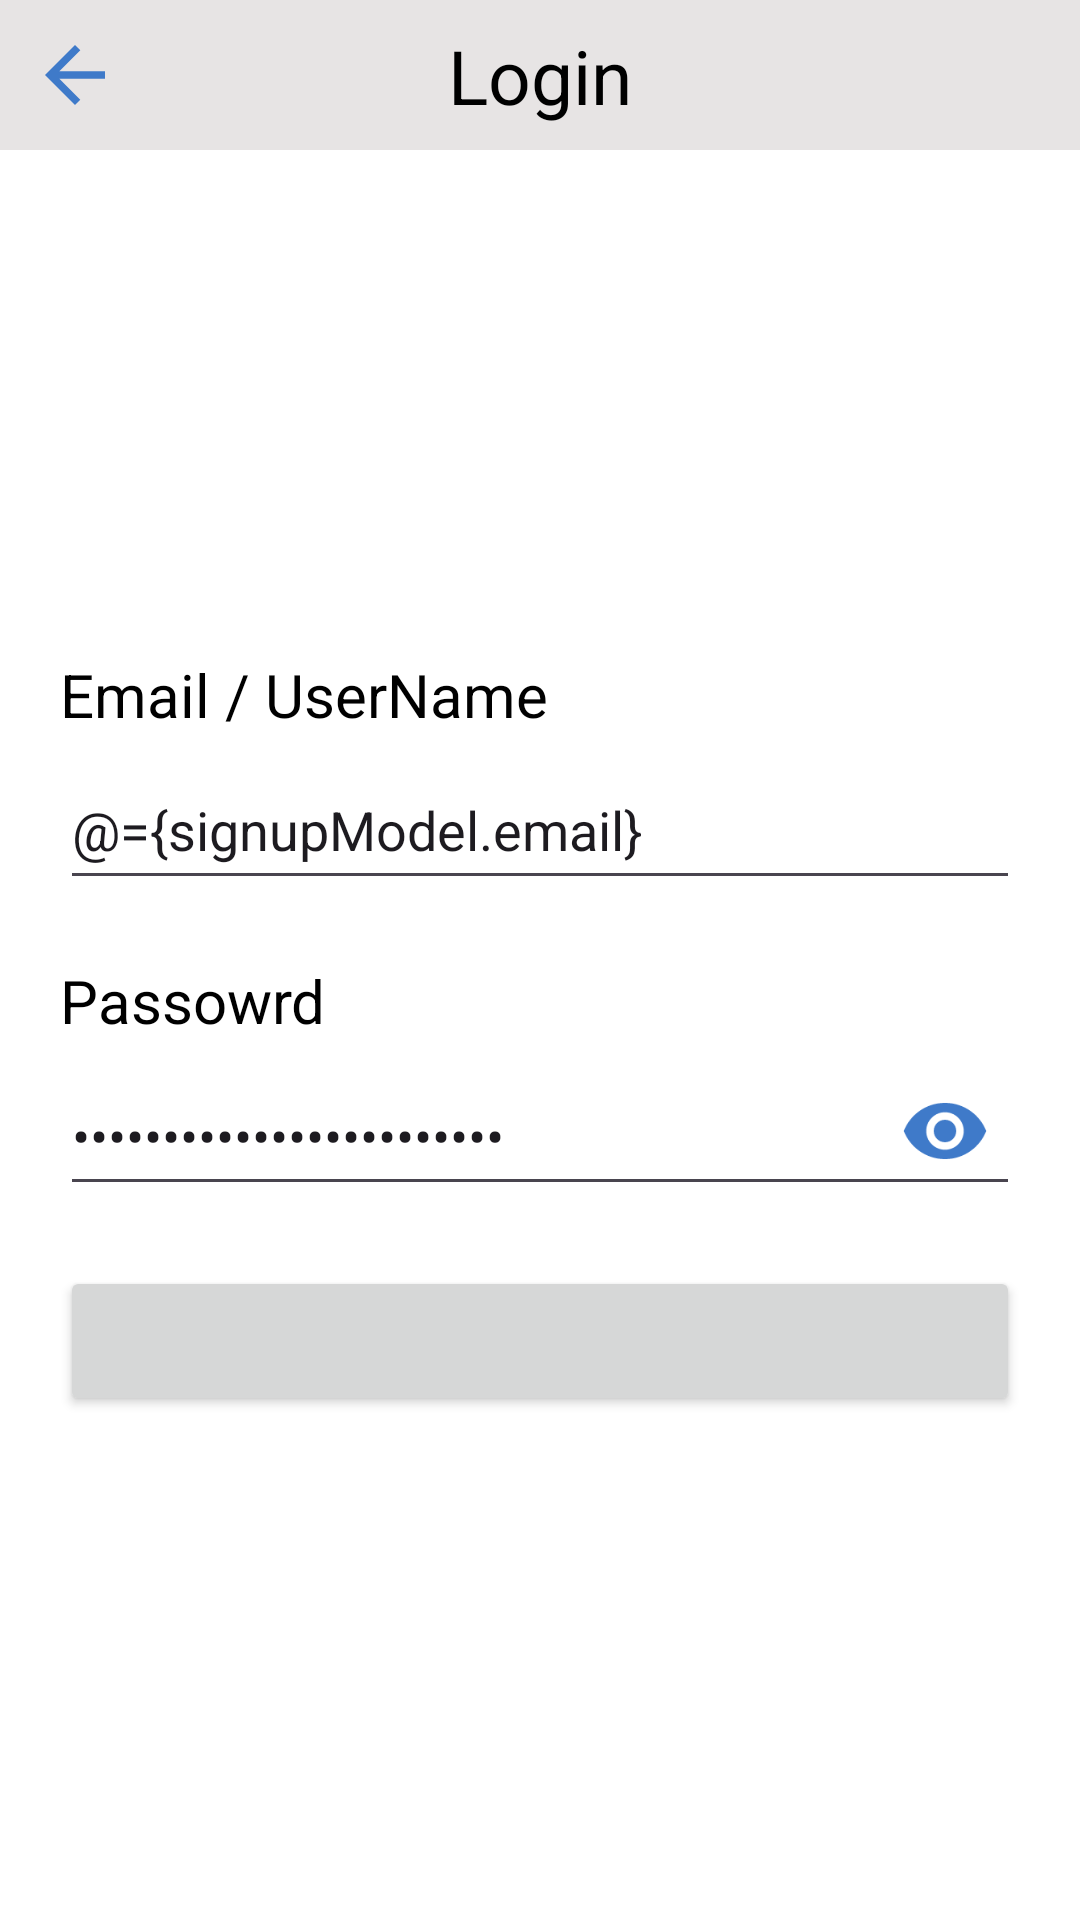

Icons on this 1080px x 1920px Android screen, each with its box as (x1, y1, x2, y2):
arrow back: (45, 45, 105, 105)
remove eye: (904, 1103, 986, 1159)
